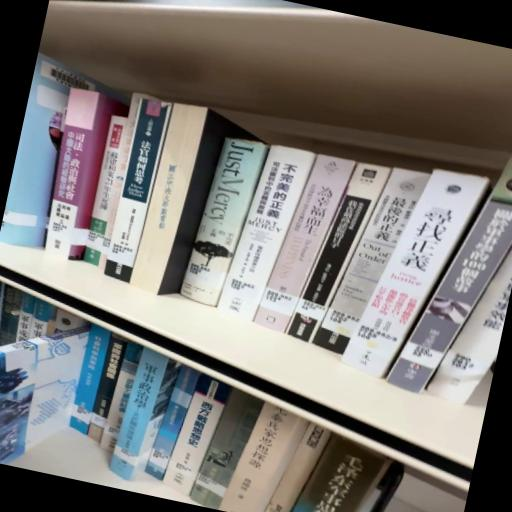backward: (130, 104, 259, 296), (383, 215, 398, 226)
book: (31, 90, 126, 270), (180, 135, 272, 315), (102, 98, 172, 286)
